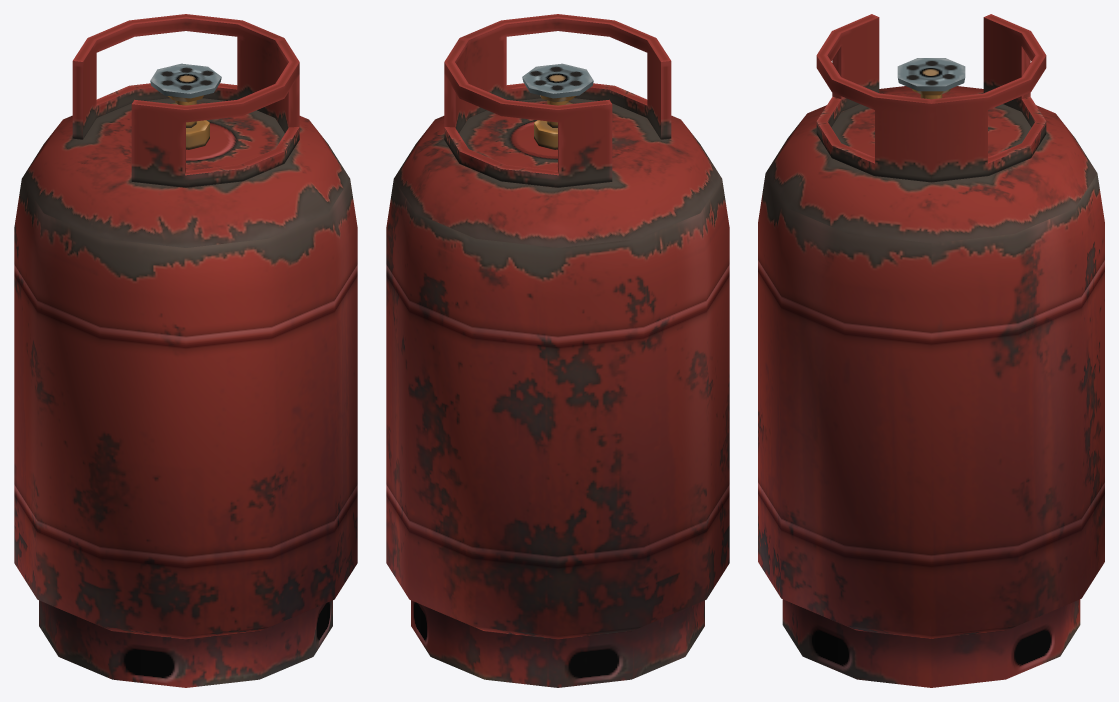
Rendered from gasCylinder04.fbx.
3 views of the same model, side by side, from view 1: azimuth 30°, elevation 25°; view 2: azimuth 150°, elevation 25°; view 3: azimuth 270°, elevation 25° (orthographic).
Parts seen in each view (by area): view 1: gasCylinder04; view 2: gasCylinder04; view 3: gasCylinder04.
Boxes of the visible parts, x1,y1,x2,y2 form: gasCylinder04: (14,14,357,687); gasCylinder04: (386,14,729,687); gasCylinder04: (758,14,1104,687).
Bounding box in the file's own units: 32 × 58 × 32.
